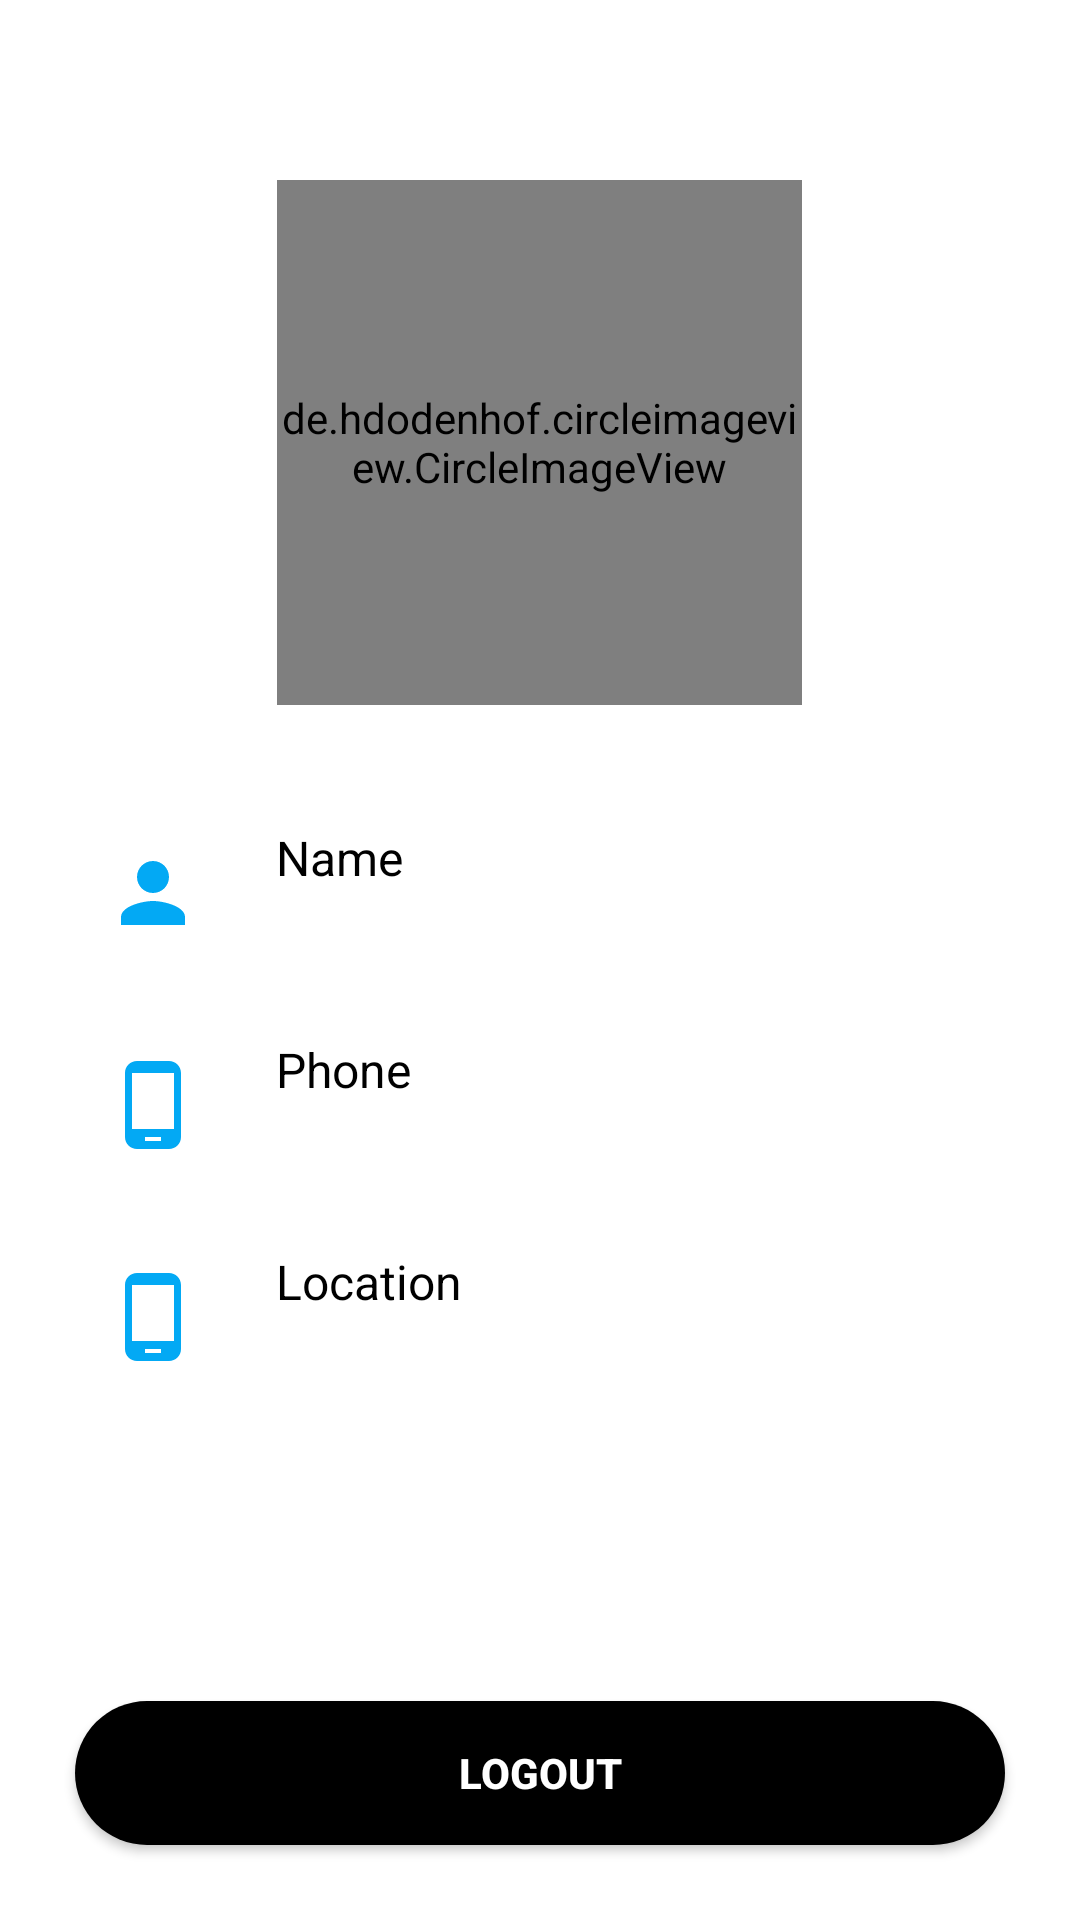

Named icons in this screenshot (1080px×1920px) and their bounding boxes, (x1, y1, x2, y2):
person: (121, 861, 185, 925)
